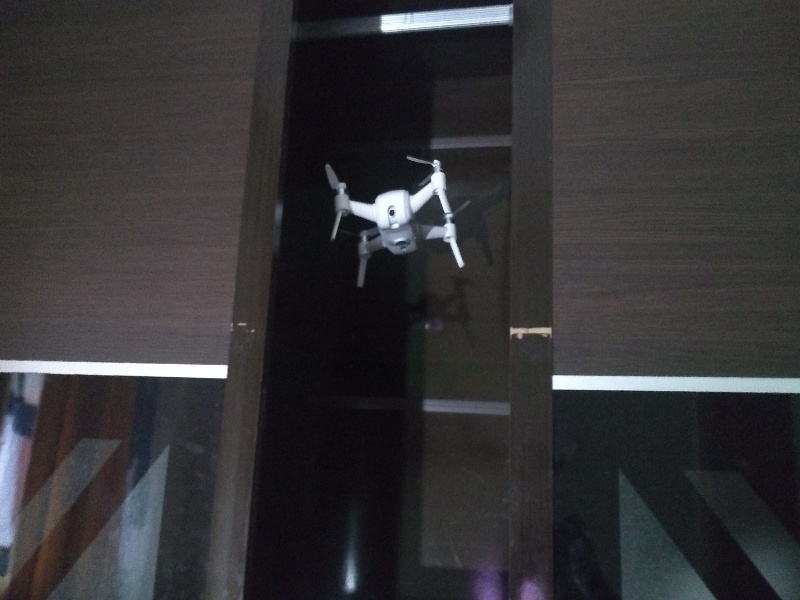drone: (313, 152, 486, 288)
